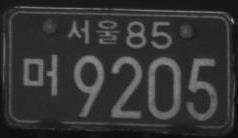0: (146, 54, 182, 121)
2: (108, 54, 144, 120)
5: (185, 56, 219, 121), (149, 19, 173, 50)
8: (124, 19, 148, 49)
9: (71, 53, 106, 118)
머: (21, 53, 59, 97)
서울_O: (65, 18, 121, 46)
